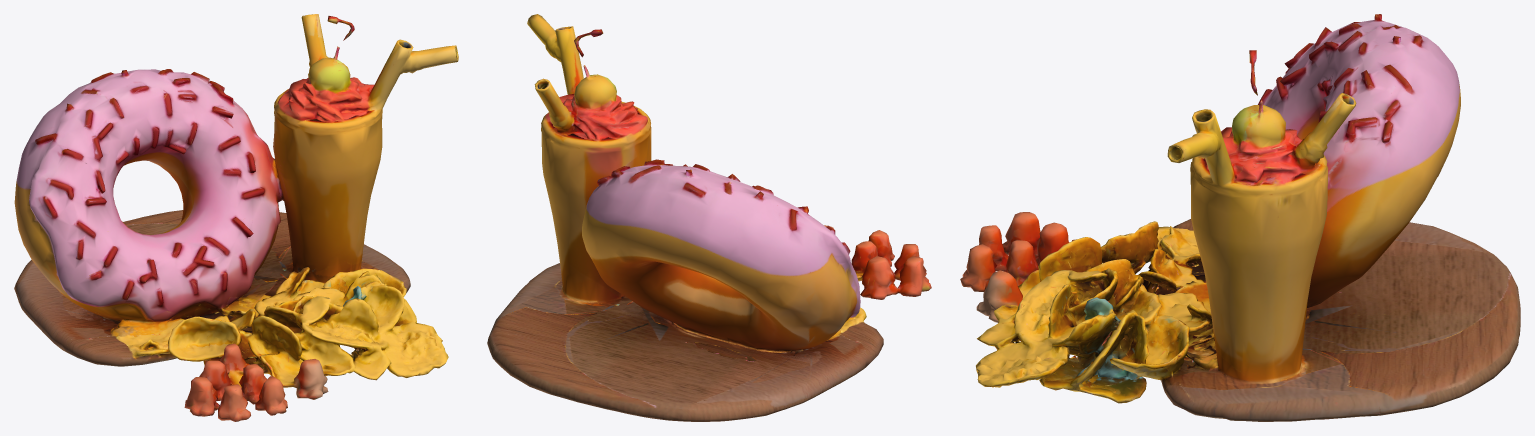
File: Snack.glb
3 renders of one model, left to right at view 1: azimuth 30°, elevation 25°; view 2: azimuth 150°, elevation 25°; view 3: azimuth 270°, elevation 25°, orthographic. The views are drawn at different scales.
Size of the model in its own units: 1.82 by 1.31 by 1.92.
1 material, 1 textured.
